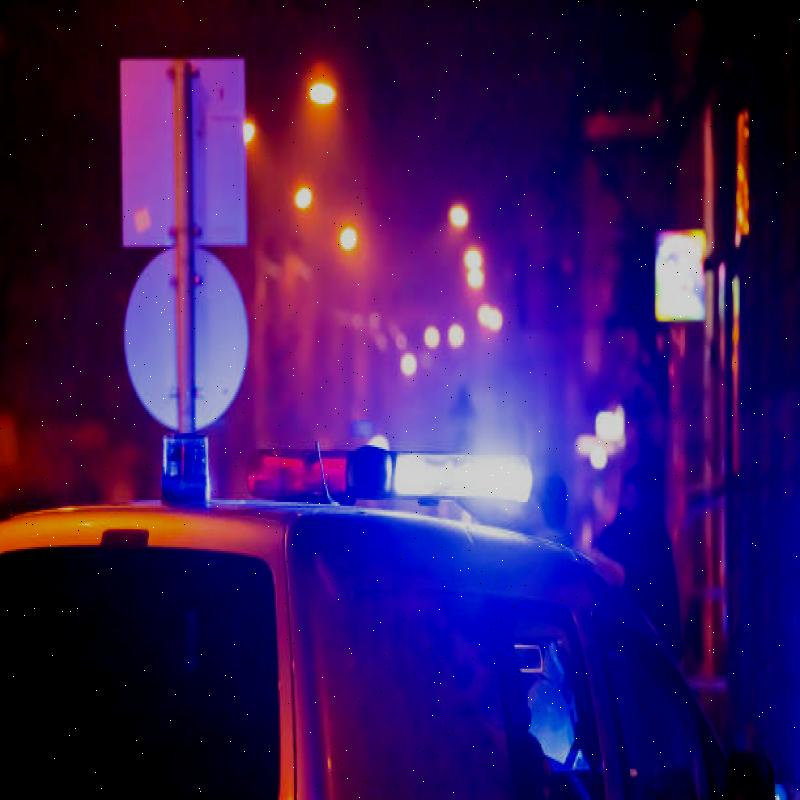AmbulanceSiren: (218, 405, 552, 524)
